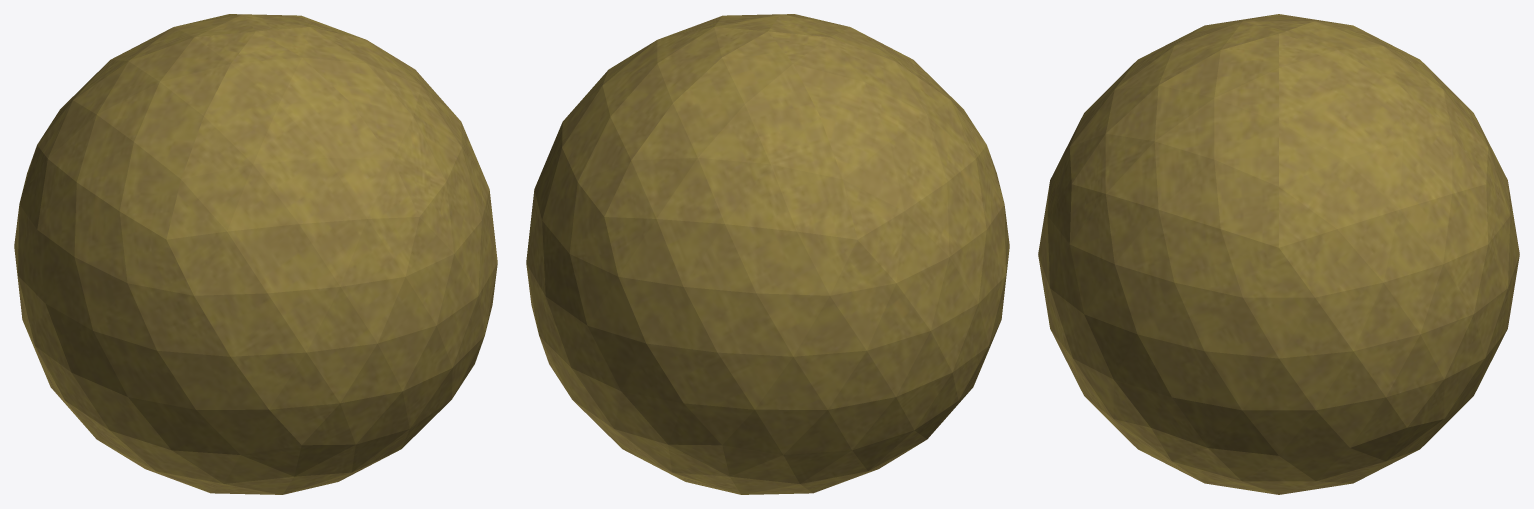
File: ball.glb
3 renders of one model, left to right at view 1: azimuth 30°, elevation 25°; view 2: azimuth 150°, elevation 25°; view 3: azimuth 270°, elevation 25°, orthographic.
Visible parts, largest first — view 1: Icosphere.000; view 2: Icosphere.000; view 3: Icosphere.000.
Boxes of the visible parts, x1,y1,x2,y2 form: Icosphere.000: (14,14,497,494); Icosphere.000: (526,14,1009,494); Icosphere.000: (1038,14,1519,494).
Bounding box in the file's own units: 1.86 × 1.88 × 1.86.
1 material, 1 textured.
